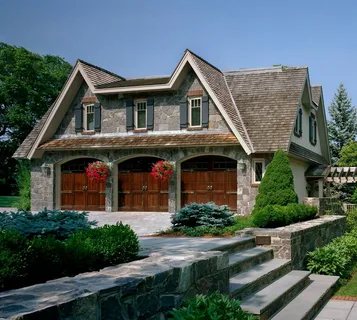private_hause: (18, 57, 335, 223)
